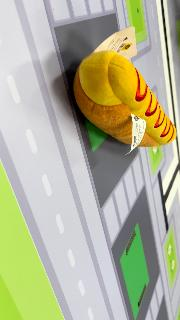hotdog: (73, 50, 177, 148)
